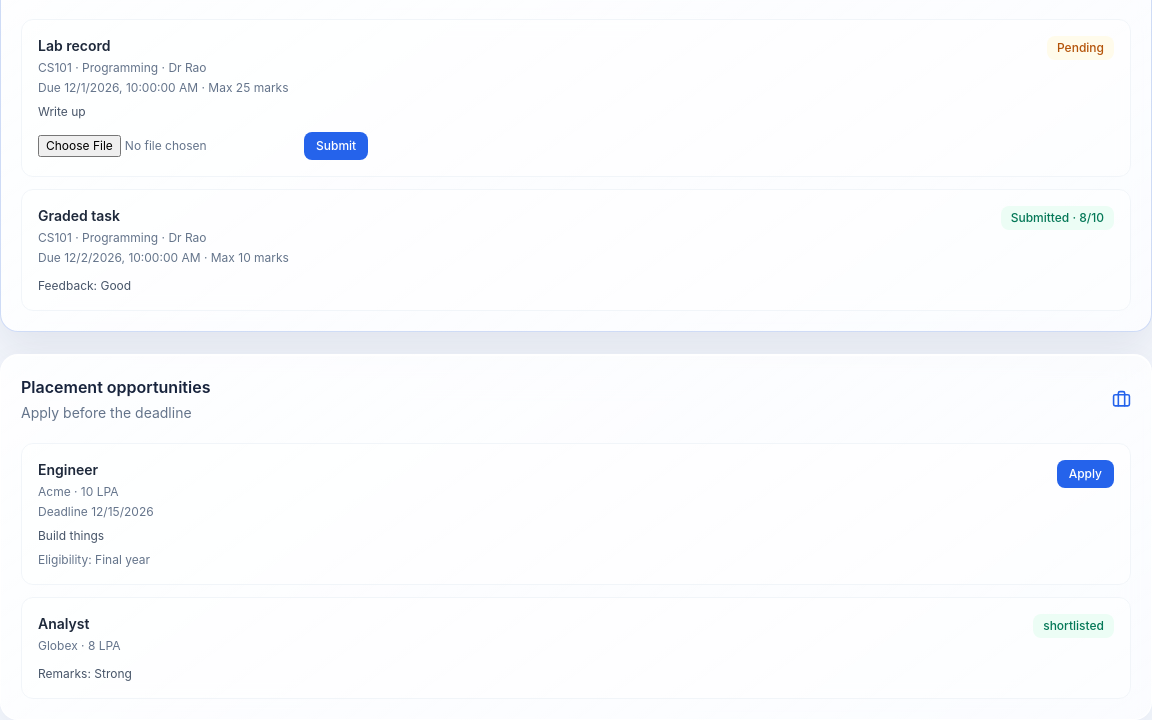
Scenario: StudentPortal › applies to a job posting
(page scrolled)
Check: the text "Engineer" is shown, box top-left (38, 461), bottom-right (98, 478)
Click the button "Apply". click: (1085,474)
box: top-left (1057, 460), bottom-right (1114, 488)
(page scrolled)
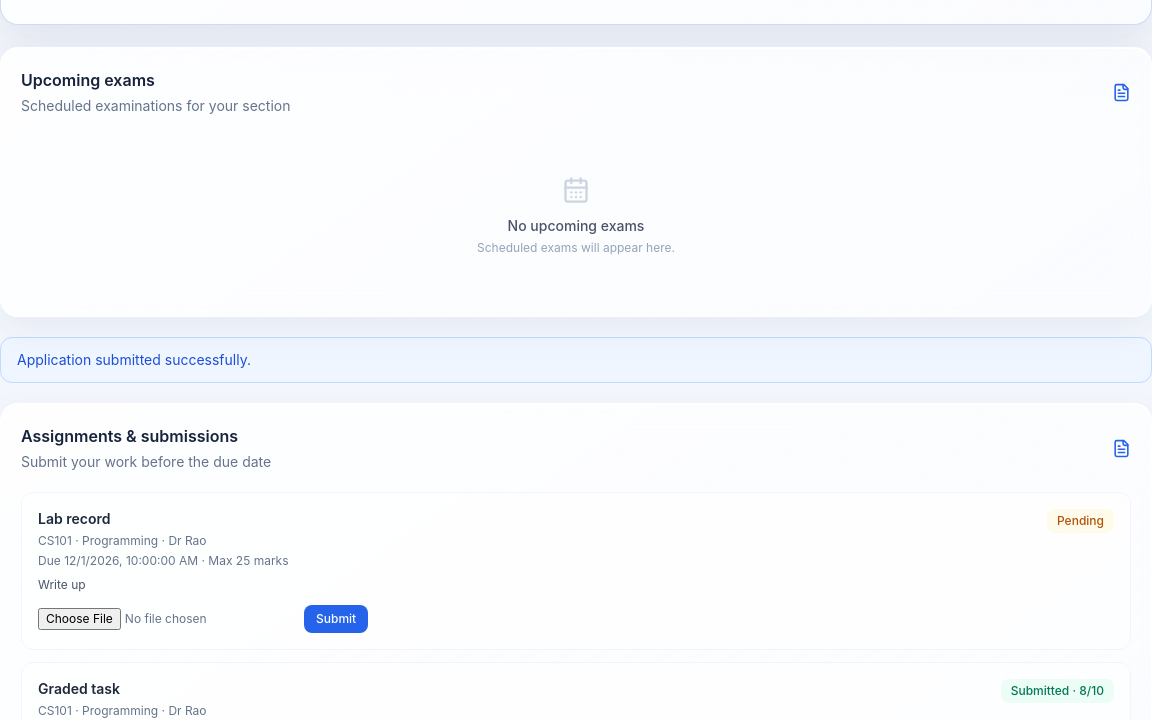
Check: the text "Application submitted successfully." is shown, box top-left (0, 337), bottom-right (1151, 383)
